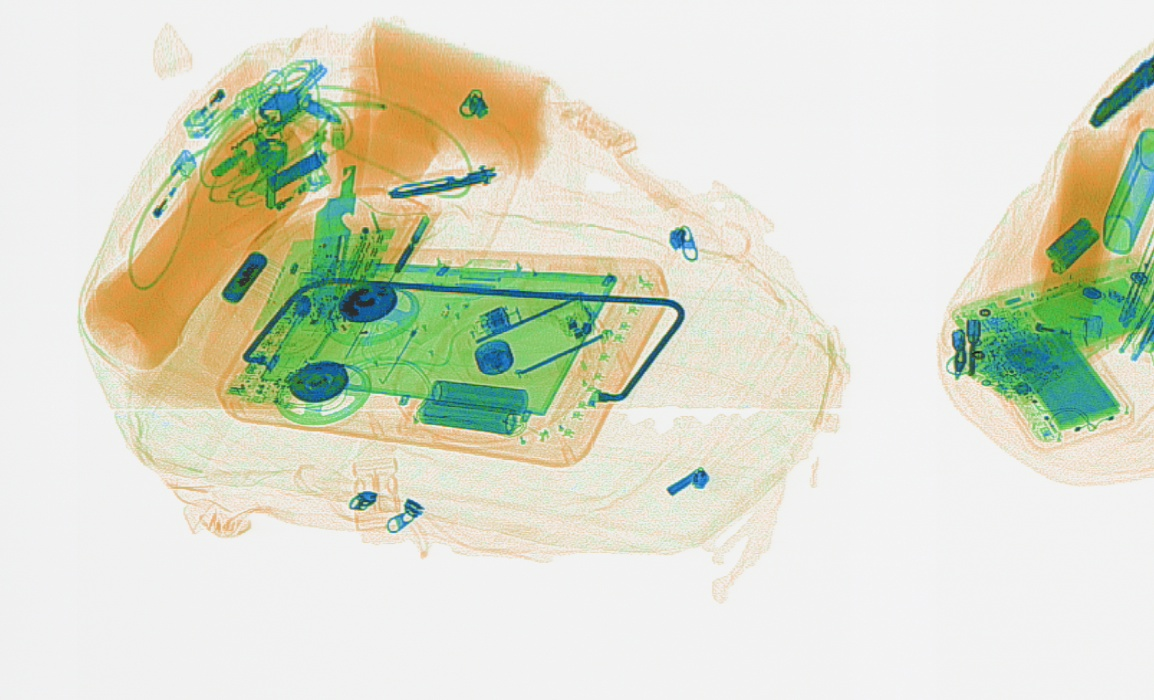knife: (301, 74, 374, 334), (388, 162, 505, 207)
lighter: (107, 148, 198, 259), (177, 56, 261, 146), (1004, 297, 1105, 343)
